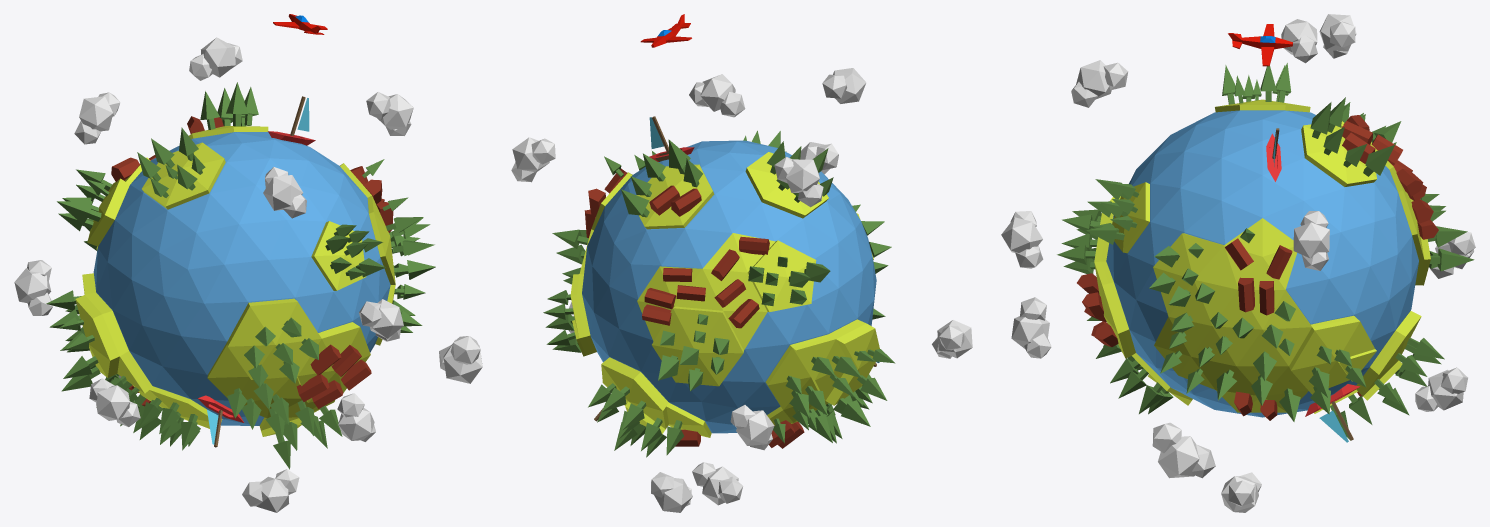
Rendered from world.fbx.
3 views of the same model, side by side, from view 1: azimuth 30°, elevation 25°; view 2: azimuth 150°, elevation 25°; view 3: azimuth 270°, elevation 25° (orthographic). The views are drawn at different scales.
Visible parts, largest first — view 1: terain, clouds, ship3, ship2; view 2: terain, clouds, ship2, plane; view 3: terain, clouds, plane, ship1, ship2.
Part boxes in pixels (x1,y1,x2,y2): terain: (46,82,435,469); clouds: (14,37,482,512); ship3: (198,395,243,447); ship2: (268,96,315,145); terain: (543,130,895,457); clouds: (511,68,972,512); ship2: (649,116,694,161); plane: (640,14,691,47); terain: (1057,63,1474,440); clouds: (1001,14,1475,512); plane: (1228,24,1292,66); ship1: (1305,384,1359,442); ship2: (1266,128,1281,181).
Size of the model in its own units: 323 by 374 by 320.
